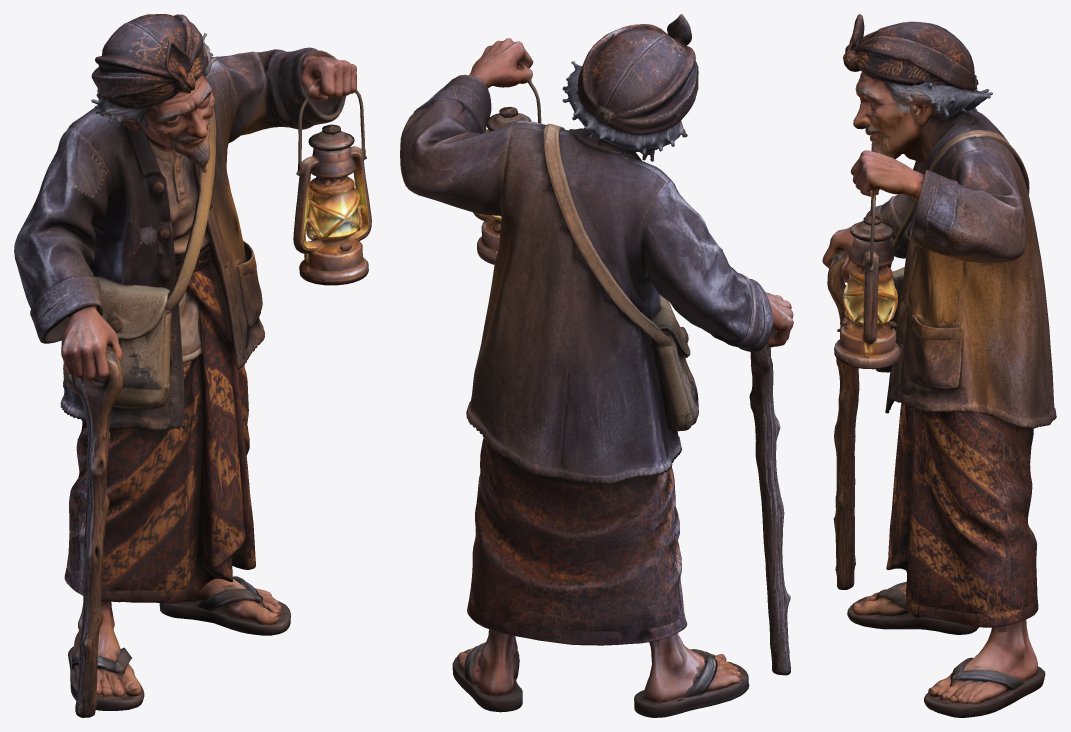
File: kadyo.glb
3 views of the same model, side by side, from view 1: azimuth 30°, elevation 25°; view 2: azimuth 150°, elevation 25°; view 3: azimuth 270°, elevation 25° (orthographic). The views are drawn at different scales.
Parts seen in each view (by area): view 1: kadyo; view 2: kadyo; view 3: kadyo.
Boxes of the visible parts, x1,y1,x2,y2 form: kadyo: (14,14,371,717); kadyo: (400,14,793,717); kadyo: (822,14,1056,717).
Bounding box in the file's own units: 0.5206 × 0.9753 × 0.3315.
1 material, 1 textured.
